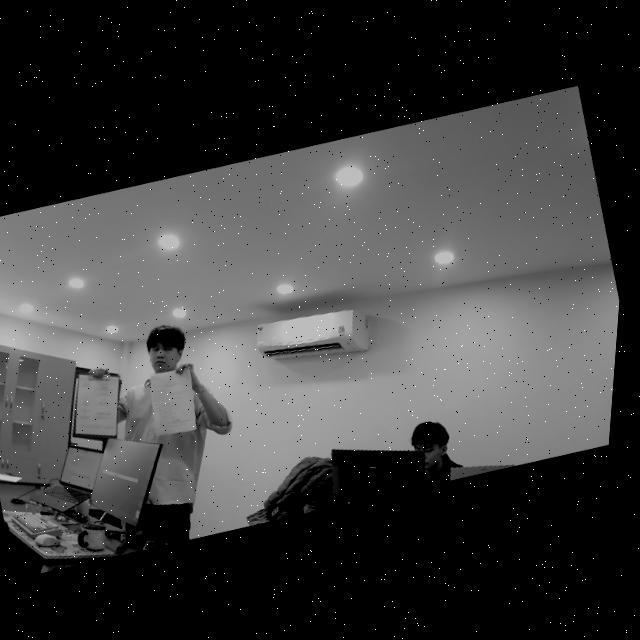document: (150, 366, 196, 435), (75, 374, 118, 435)
face: (146, 321, 197, 373)
